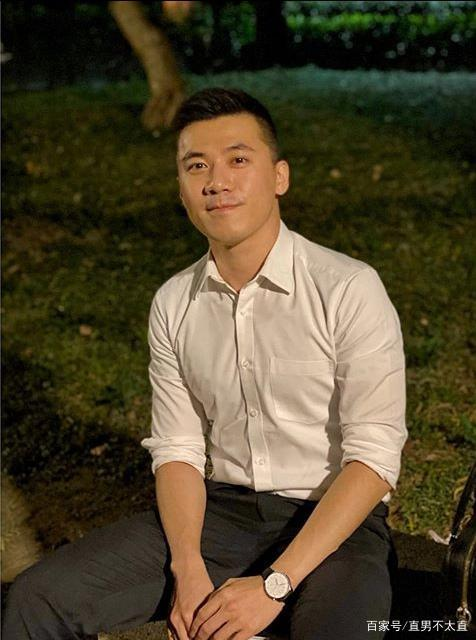person: (100, 98, 396, 438)
